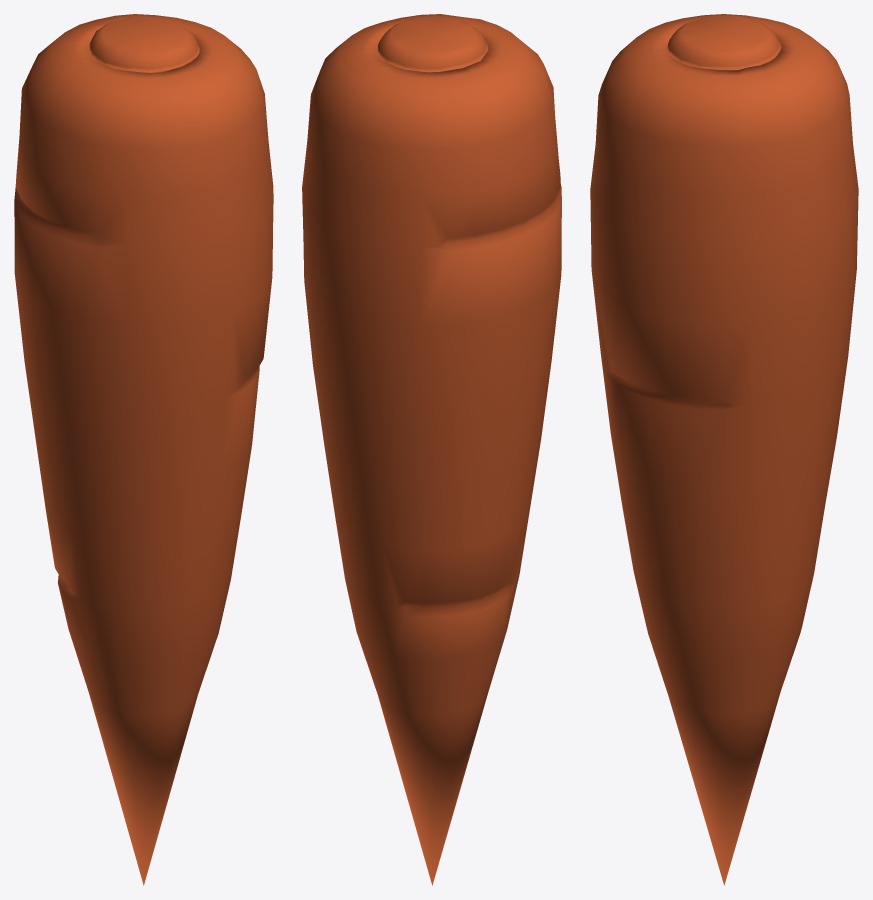
Rendered from CenouraColeta.fbx.
3 renders of one model, left to right at view 1: azimuth 30°, elevation 25°; view 2: azimuth 150°, elevation 25°; view 3: azimuth 270°, elevation 25°, orthographic.
Visible parts, largest first — view 1: CenouraColeta; view 2: CenouraColeta; view 3: CenouraColeta.
Boxes of the visible parts, x1,y1,x2,y2 form: CenouraColeta: [14, 14, 273, 885]; CenouraColeta: [302, 14, 561, 885]; CenouraColeta: [590, 14, 858, 885].
Size of the model in its own units: 3.53 by 12.84 by 3.66.
